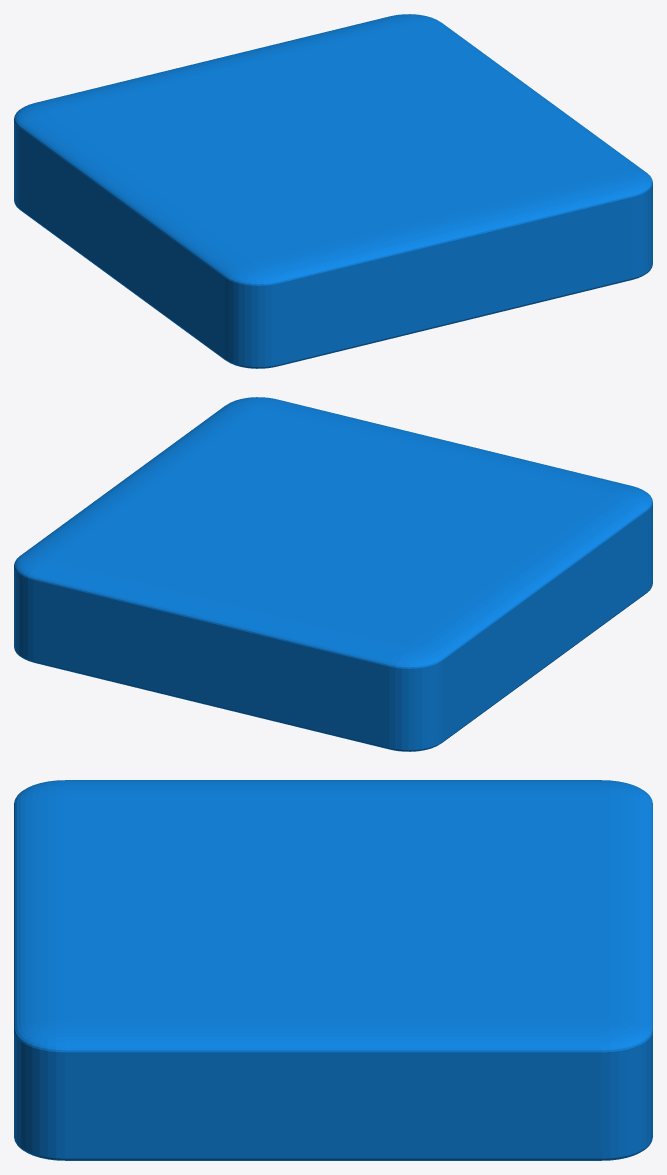
The model's file is tsBg.glb.
The picture shows the model from 3 angles, top to bottom: view 1: azimuth 30°, elevation 25°; view 2: azimuth 150°, elevation 25°; view 3: azimuth 270°, elevation 25°; orthographic projection. The views are drawn at different scales.
Visible parts, largest first — view 1: ts; view 2: ts; view 3: ts.
Boxes of the visible parts, x1,y1,x2,y2 form: ts: (14,14,652,368); ts: (14,397,652,751); ts: (14,780,652,1160).
Bounding box in the file's own units: 2 × 0.437 × 2.
